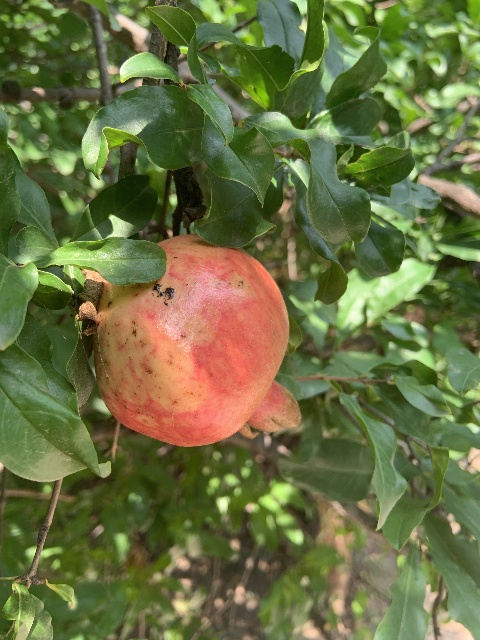ripe: (92, 234, 300, 447)
